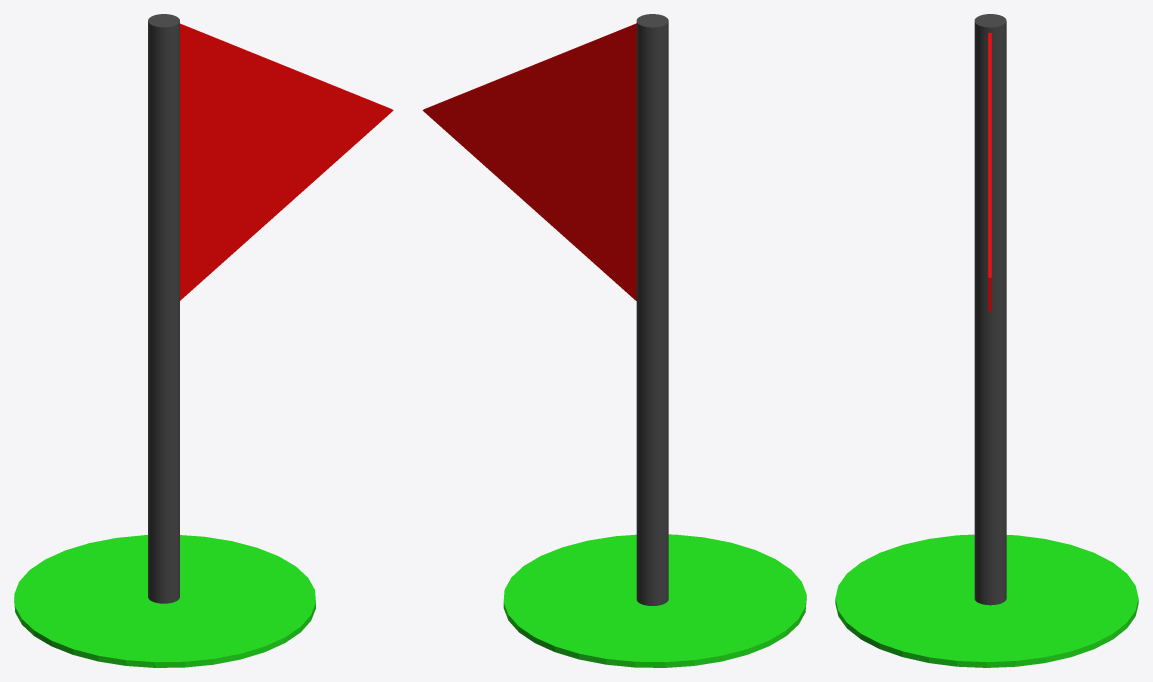
Rendered from flag.dae.
3 renders of one model, left to right at view 1: azimuth 30°, elevation 25°; view 2: azimuth 150°, elevation 25°; view 3: azimuth 270°, elevation 25°, orthographic.
Parts seen in each view (by area): view 1: Cylinder_001, flag, Cylinder; view 2: Cylinder_001, flag, Cylinder; view 3: Cylinder_001, Cylinder, flag.
Boxes of the visible parts, bbox=[...] form: Cylinder_001: bbox=[14, 535, 315, 667]; flag: bbox=[180, 23, 393, 300]; Cylinder: bbox=[148, 14, 179, 603]; Cylinder_001: bbox=[503, 534, 806, 667]; flag: bbox=[422, 23, 636, 300]; Cylinder: bbox=[636, 14, 668, 605]; Cylinder_001: bbox=[835, 534, 1138, 667]; Cylinder: bbox=[974, 14, 1006, 605]; flag: bbox=[988, 32, 991, 311].
Size of the model in its own units: 31.35 by 22.79 by 48.4.
